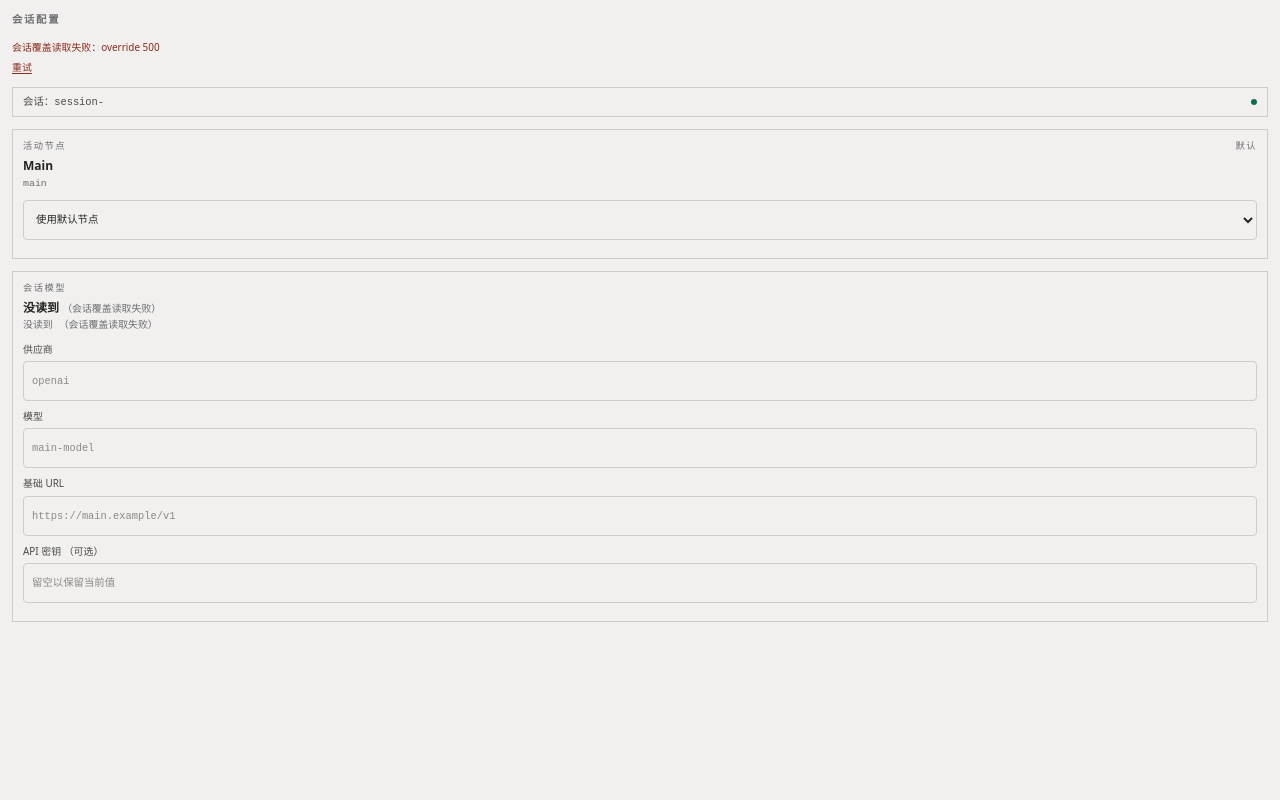
Test case: 会话面板 › 会话覆盖没读到时输入框不让填，生效值不拿节点的顶上，重试读到了就能填
Expected: the message shows "会话覆盖读取失败：override 500", x1=12 y1=40 x2=160 y2=75
Expected: the field named "模型" is disabled, x1=23 y1=428 x2=1257 y2=468
Click the button "重试".
click(22, 67)  # box x1=12 y1=60 x2=32 y2=75
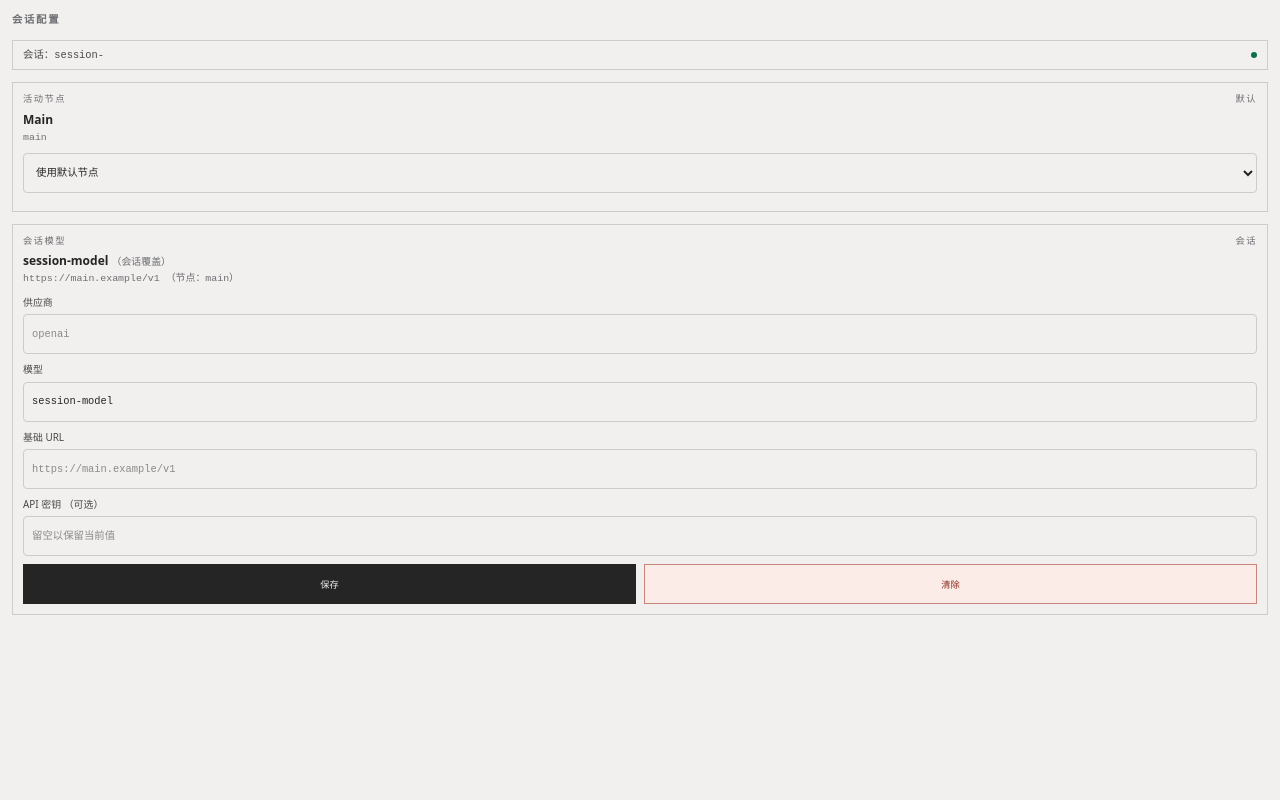
Expected: the field named "模型" is enabled, x1=23 y1=382 x2=1257 y2=422
Expected: the field named "模型" holds "session-model", x1=23 y1=382 x2=1257 y2=422
Expected: the message "会话覆盖读取失败：override 500 重试" is gone
